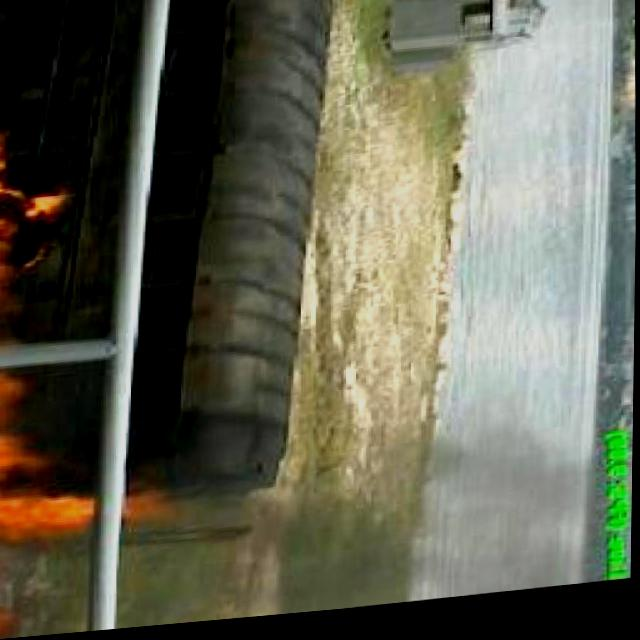Fire: (0, 389, 103, 541), (0, 136, 65, 292)
